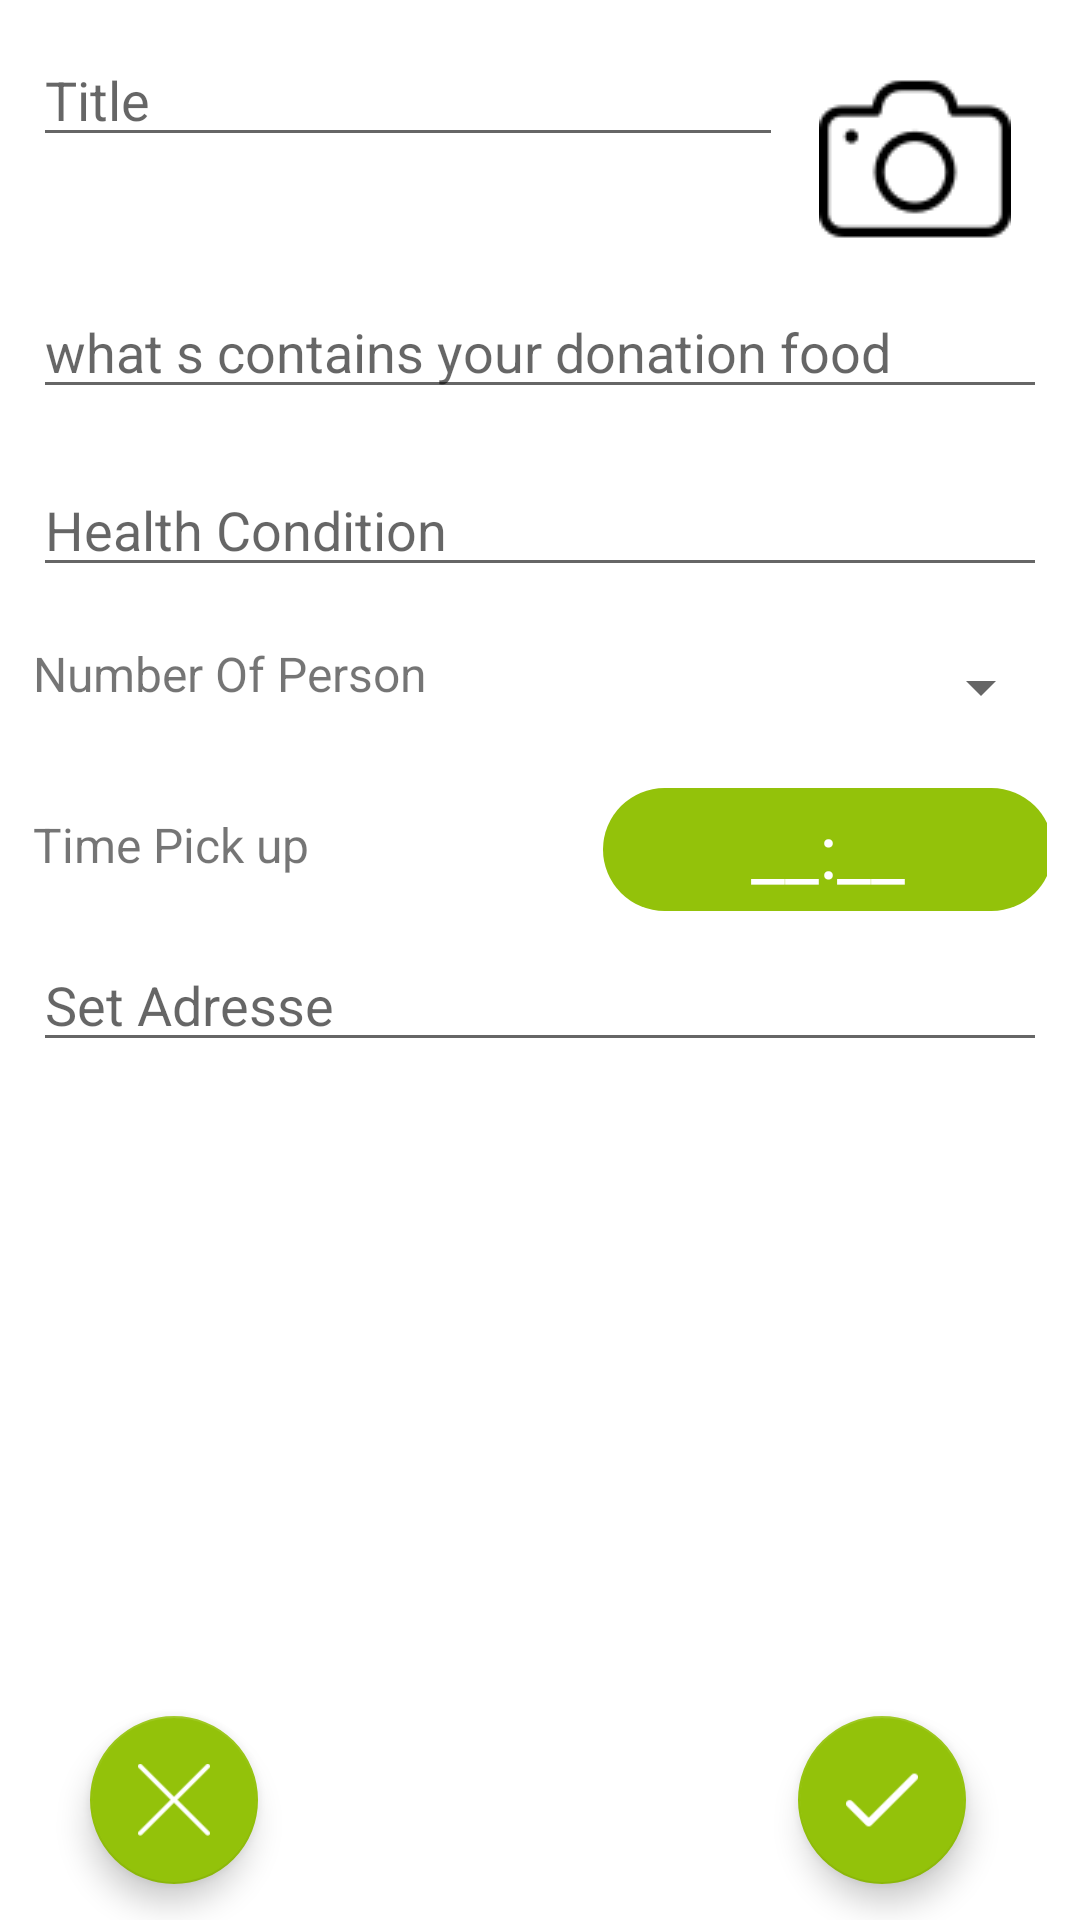

Where icons sit on this 1080*1920 app screen, as (x1, y1, x2, y2):
cancel: (90, 1716, 258, 1884)
photo cameraa: (819, 80, 1011, 238)
tick: (798, 1716, 966, 1884)
